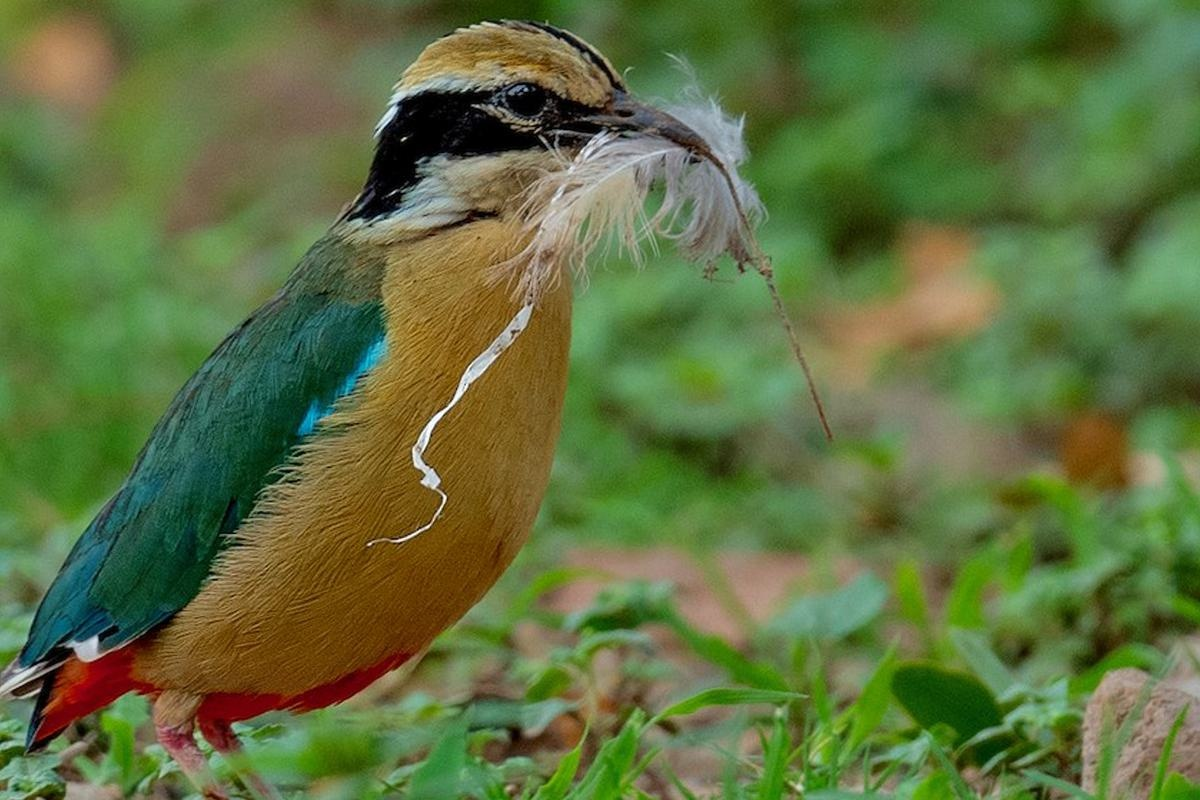pitta: (18, 10, 730, 800)
